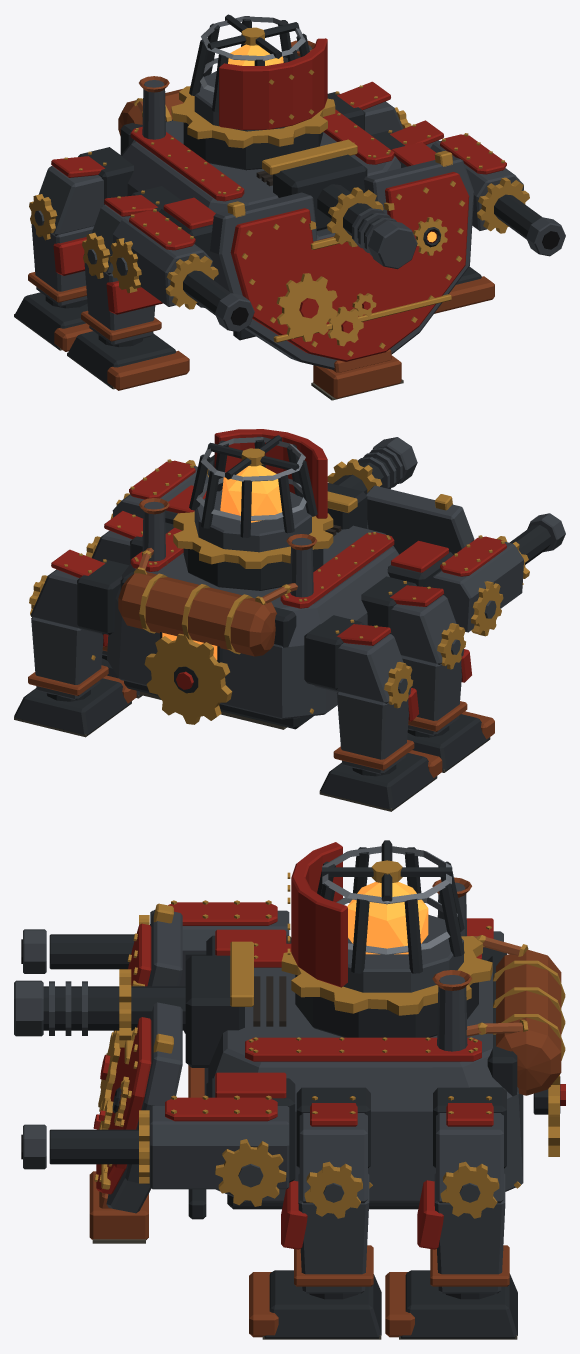
Rendered from bulwark_cog.fbx.
3 views of the same model, one above another, from view 1: azimuth 30°, elevation 25°; view 2: azimuth 150°, elevation 25°; view 3: azimuth 270°, elevation 25° (orthographic). The views are drawn at different scales.
Visible parts, largest first — view 1: Body, Shield, Leg_4, Leg_2, Arm_R, Arm_L, Leg_1, Leg_3, Core; view 2: Body, Leg_4, Leg_3, Leg_2, Arm_R, Shield, Arm_L, Leg_1, Core; view 3: Body, Leg_1, Leg_3, Arm_L, Shield, Arm_R, Core, Leg_4.
Boxes of the visible parts, bbox=[...] form: Body: bbox=[118, 14, 417, 307]; Shield: bbox=[210, 150, 474, 400]; Leg_4: bbox=[14, 147, 133, 351]; Leg_2: bbox=[67, 186, 189, 390]; Arm_R: bbox=[109, 197, 254, 332]; Arm_L: bbox=[391, 133, 565, 256]; Leg_1: bbox=[371, 120, 494, 313]; Leg_3: bbox=[327, 81, 411, 134]; Core: bbox=[228, 44, 283, 65]; Body: bbox=[91, 429, 417, 729]; Leg_4: bbox=[304, 615, 442, 811]; Leg_3: bbox=[14, 549, 136, 737]; Leg_2: bbox=[361, 576, 494, 772]; Arm_R: bbox=[387, 513, 565, 636]; Shield: bbox=[213, 459, 474, 554]; Arm_L: bbox=[110, 455, 214, 524]; Leg_1: bbox=[85, 511, 174, 698]; Core: bbox=[220, 465, 282, 522]; Body: bbox=[14, 840, 565, 1209]; Leg_1: bbox=[249, 1087, 381, 1339]; Leg_3: bbox=[385, 1087, 517, 1339]; Arm_L: bbox=[21, 1072, 295, 1206]; Shield: bbox=[89, 903, 206, 1243]; Arm_R: bbox=[21, 900, 291, 986]; Core: bbox=[347, 882, 428, 954]; Leg_4: bbox=[466, 918, 506, 960].
Bounding box in the file's own units: 9.52 × 6.6 × 9.32.
Materials: 10 (8 with a texture image).
